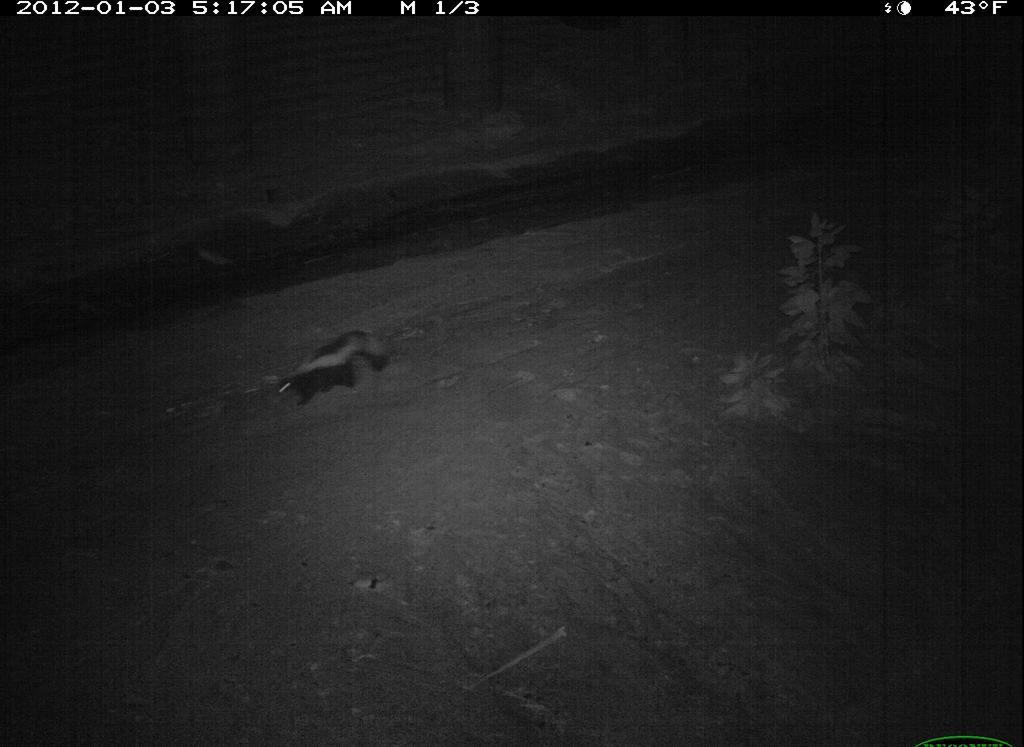skunk: (264, 319, 404, 415)
